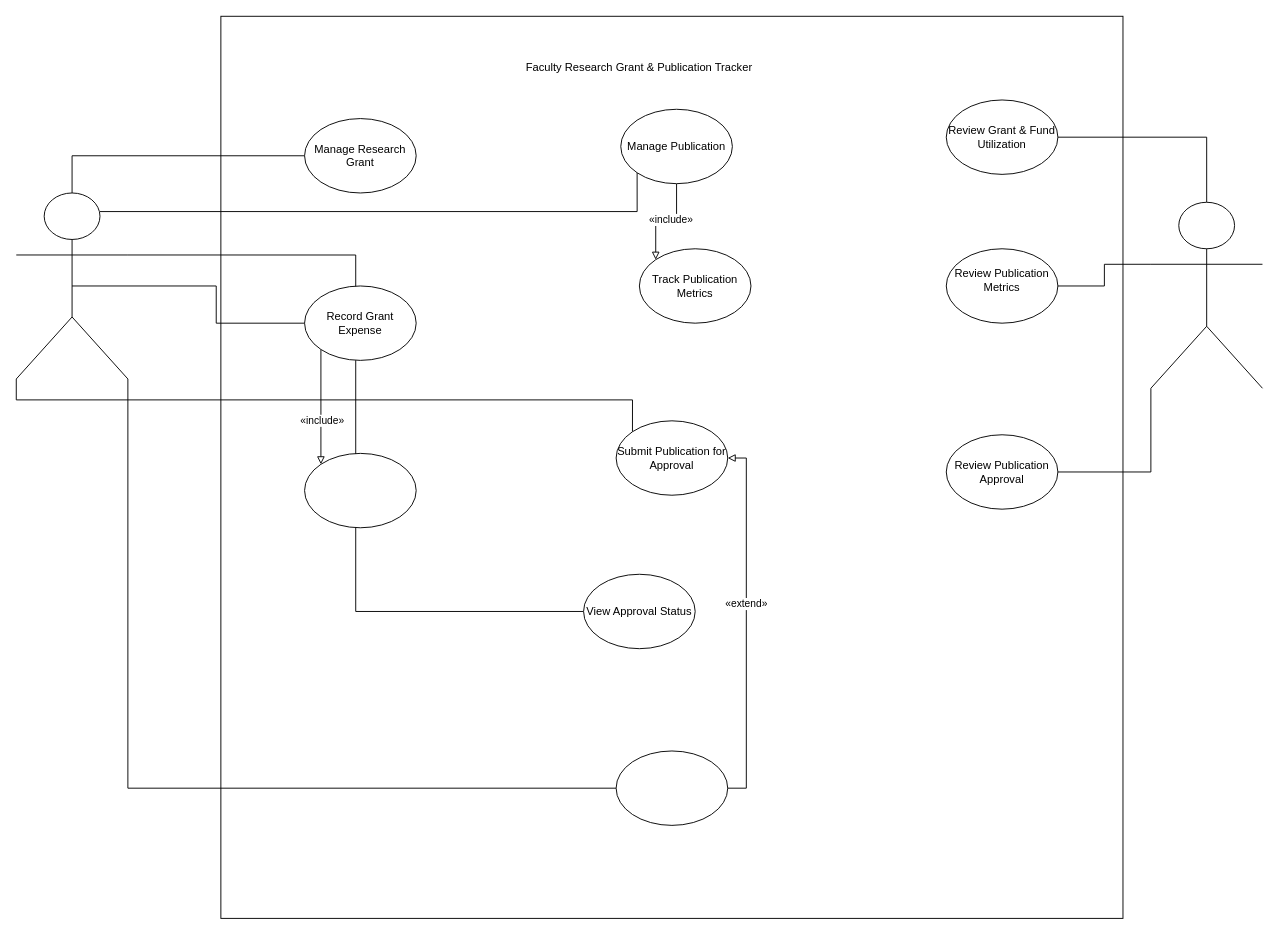
This 1279x935 diagram has some shape labels left out. The shapes that lost their labels are listed below. From the top down, each one's centre as x and y in pixels, then its label:
point 71,285: Faculty Researcher
point 1206,294: Research Dean
point 360,490: Calculate Remaining Grant Balance
point 671,787: Request Co-author Approval
